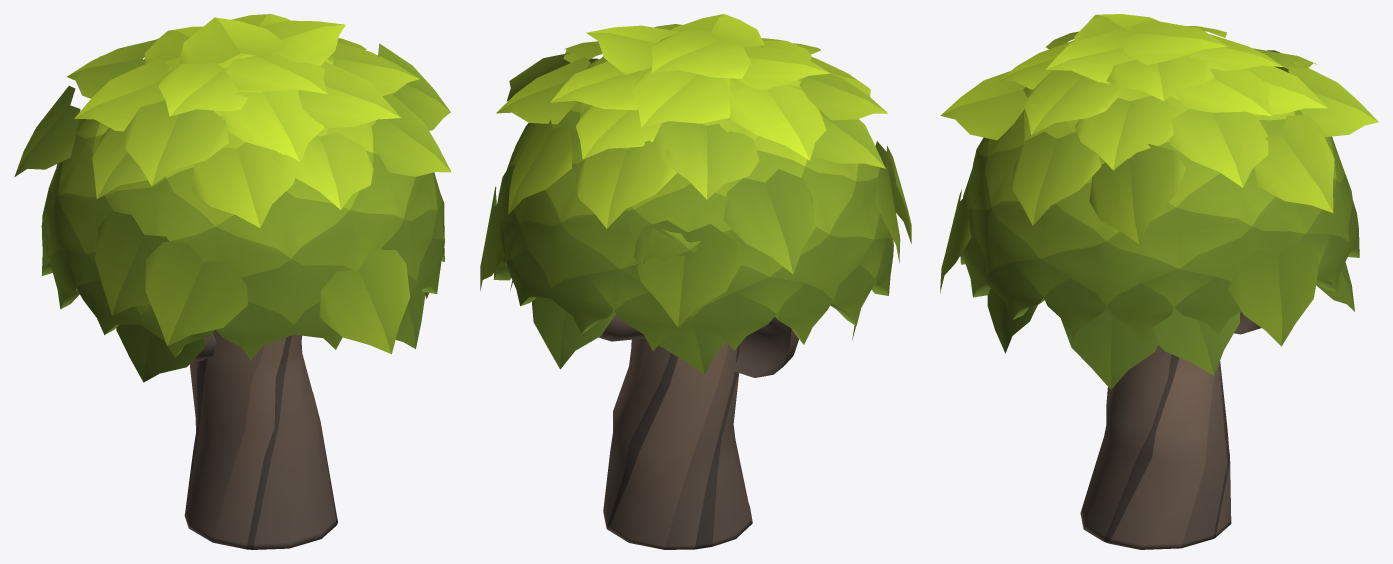
File: elf_foliage_small.fbx
The picture shows the model from 3 angles, left to right: view 1: azimuth 30°, elevation 25°; view 2: azimuth 150°, elevation 25°; view 3: azimuth 270°, elevation 25°; orthographic projection.
Visible parts, largest first — view 1: elf_foliage_small; view 2: elf_foliage_small; view 3: elf_foliage_small.
Boxes of the visible parts, x1,y1,x2,y2 form: elf_foliage_small: (14, 14, 451, 549); elf_foliage_small: (480, 14, 911, 549); elf_foliage_small: (940, 14, 1378, 549).
Size of the model in its own units: 452 by 558 by 470.
